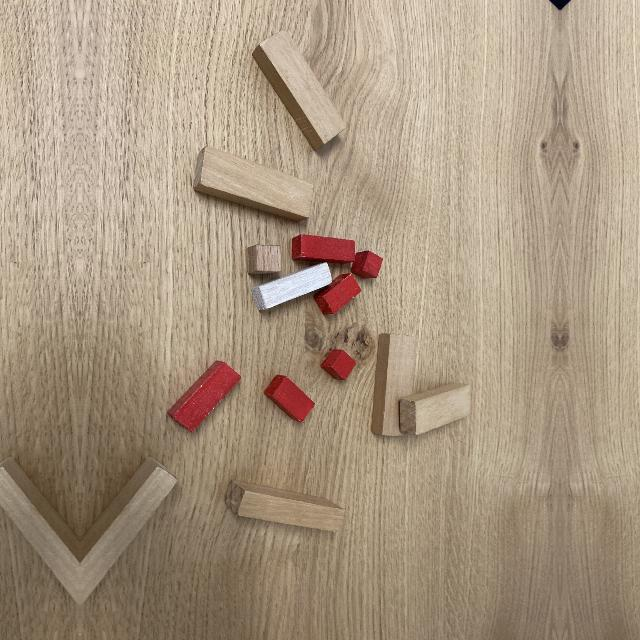block: (251, 262, 333, 310)
cube: (247, 245, 281, 274)
jenga: (80, 461, 178, 614), (0, 461, 80, 614), (252, 30, 346, 152), (193, 147, 313, 222), (225, 481, 345, 533), (399, 383, 471, 435)
red block: (167, 361, 242, 433), (264, 374, 315, 423), (313, 273, 362, 315), (292, 234, 357, 264)
red cube: (320, 349, 356, 380), (351, 250, 383, 279)
